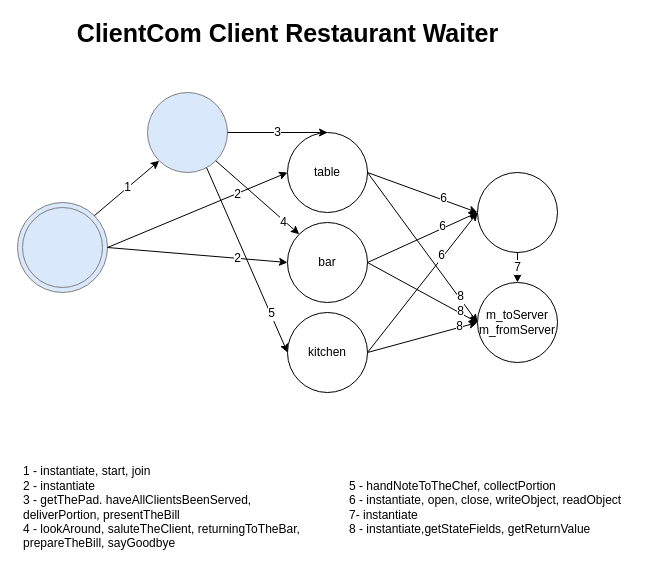
Image size: 655x582. Some labels were removed from this diagram. Each missing label, with the centre of its shape:
Client Restaurant Waiter: the point at 62,247
com: the point at 517,212
waiter: the point at 187,132
